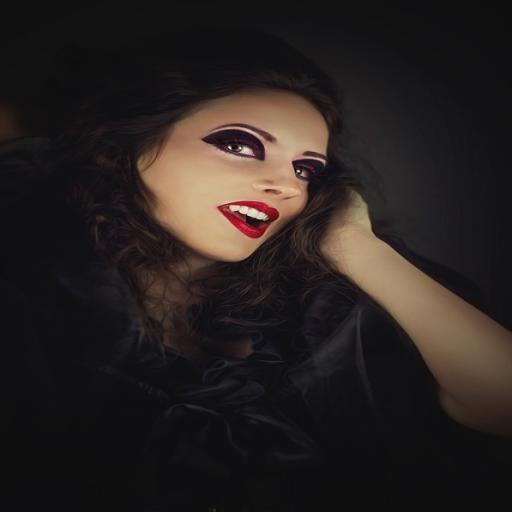lipstick: (219, 201, 279, 238)
